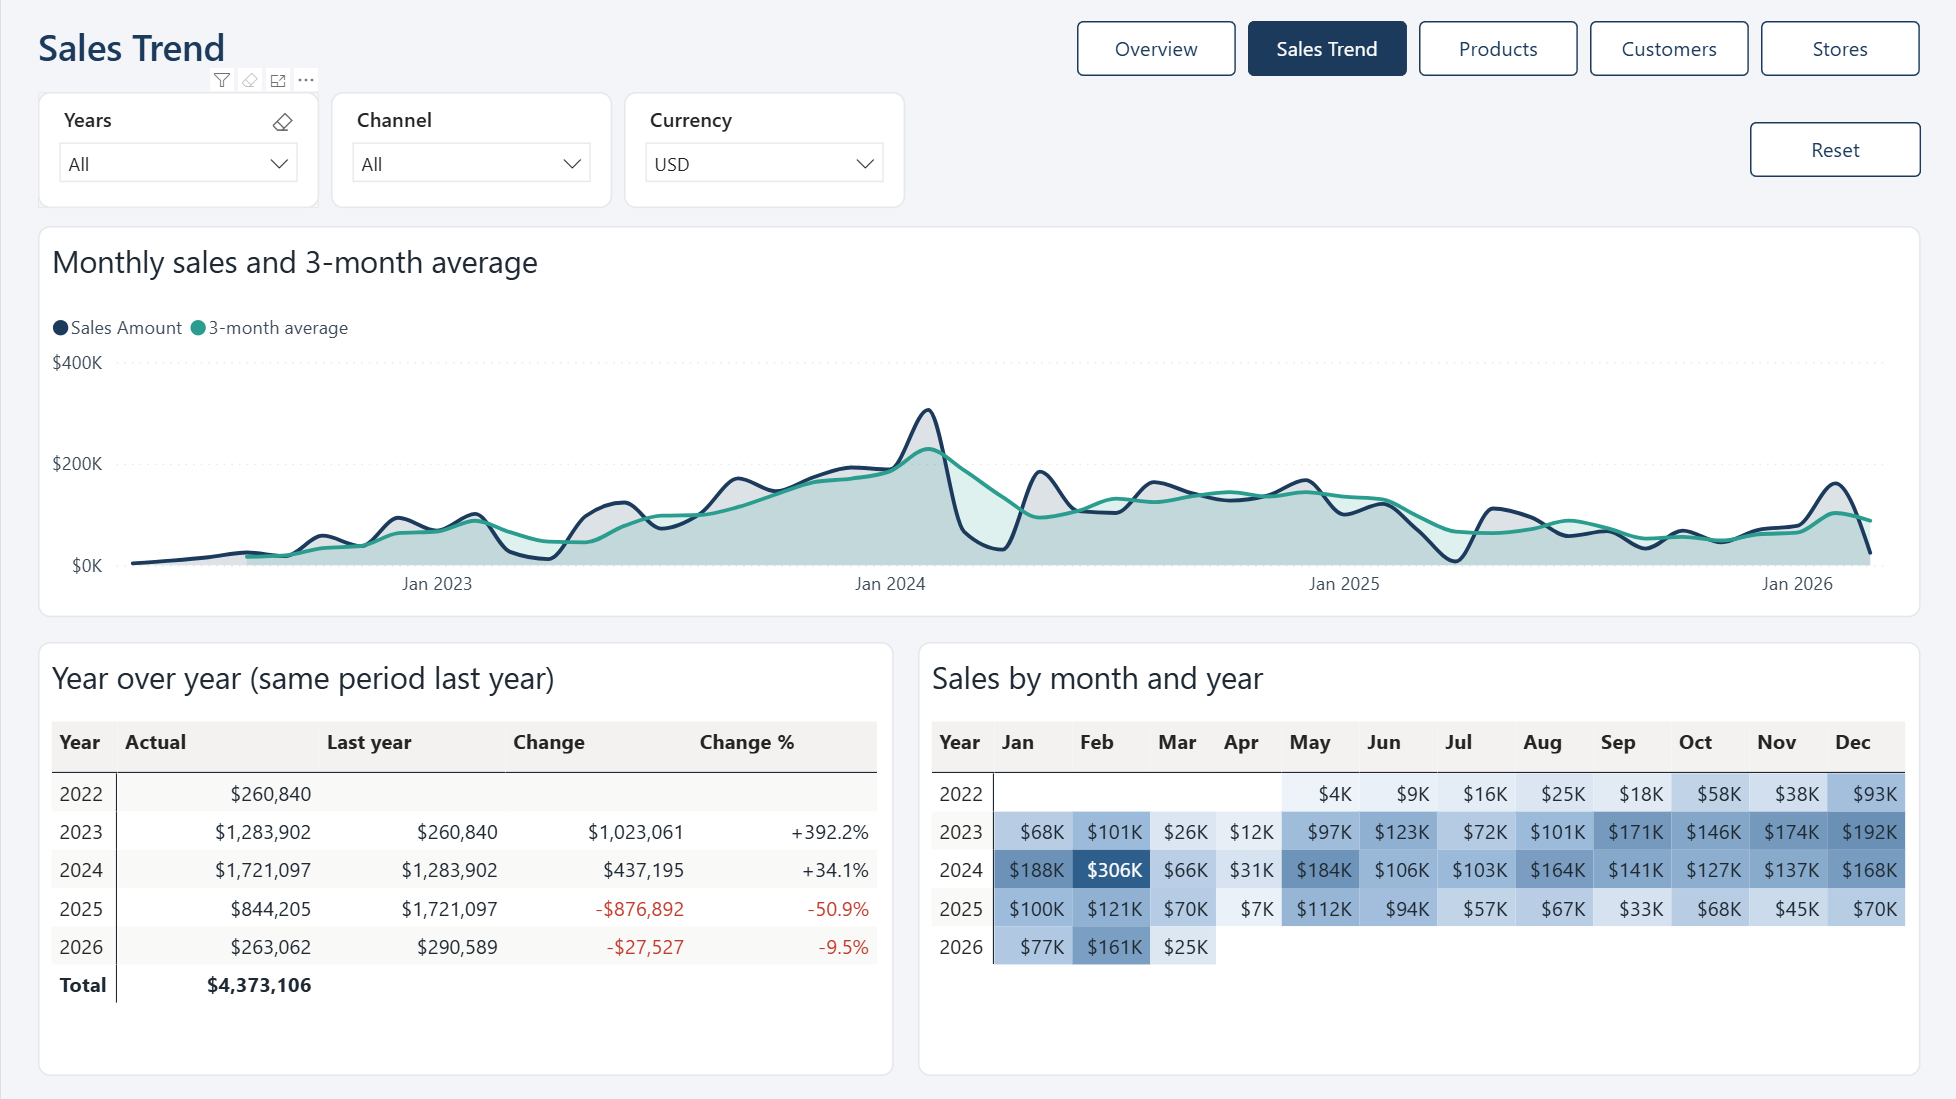

Layout of this report page (visuals, bound fields, positions):
{"tool":"powerbi","page":{"name":"Sales Trend","canvas":[1280,720],"ordinal":1},"visuals":[{"type":"textbox","box":[24,14,520,36],"z":0},{"type":"actionButton","box":[704,14,104,36],"z":1000},{"type":"actionButton","box":[816,14,104,36],"z":2000},{"type":"actionButton","box":[928,14,104,36],"z":3000},{"type":"actionButton","box":[1040,14,104,36],"z":4000},{"type":"actionButton","box":[1152,14,104,36],"z":5000},{"type":"slicer","fields":{"Values":["Date.Year"]},"box":[24,60,184,76],"z":6000},{"type":"actionButton","box":[1144.4,80,112,36],"z":7000},{"type":"slicer","fields":{"Values":["Sales.Channel"]},"box":[216,60,184,76],"z":8000},{"type":"lineChart","title":"Monthly sales and 3-month average","fields":{"Category":["Date.Month Start"],"Y":["_Measures.Sales Amount","select1"]},"box":[24,148,1232,256],"z":9000},{"type":"pivotTable","title":"Year over year (same period last year)","fields":{"Columns":["Time Calc.Period"],"Rows":["Date.Year"],"Values":["_Measures.Sales Amount"]},"box":[24,420,560,284],"z":10000},{"type":"pivotTable","title":"Sales by month and year","fields":{"Columns":["Date.MonthShort"],"Rows":["Date.Year"],"Values":["_Measures.Sales Amount"]},"box":[600,420,656,284],"z":11000},{"type":"slicer","fields":{"Values":["Currency.Currency"]},"box":[408,60,184,76],"z":12000}]}

Visuals, with their boxes in screenshot pixels (x1, y1, x2, y2), scaled from the page's 1280x720 canvas onto the 1956x1099 screenshot:
textbox: box=[37, 21, 831, 76]
actionButton: box=[1076, 21, 1235, 76]
actionButton: box=[1247, 21, 1406, 76]
actionButton: box=[1418, 21, 1577, 76]
actionButton: box=[1589, 21, 1748, 76]
actionButton: box=[1760, 21, 1919, 76]
slicer - Date.Year: box=[37, 92, 318, 208]
actionButton: box=[1749, 122, 1920, 177]
slicer - Sales.Channel: box=[330, 92, 611, 208]
"Monthly sales and 3-month average" lineChart: box=[37, 226, 1919, 617]
"Year over year (same period last year)" pivotTable: box=[37, 641, 892, 1075]
"Sales by month and year" pivotTable: box=[917, 641, 1919, 1075]
slicer - Currency.Currency: box=[623, 92, 905, 208]
